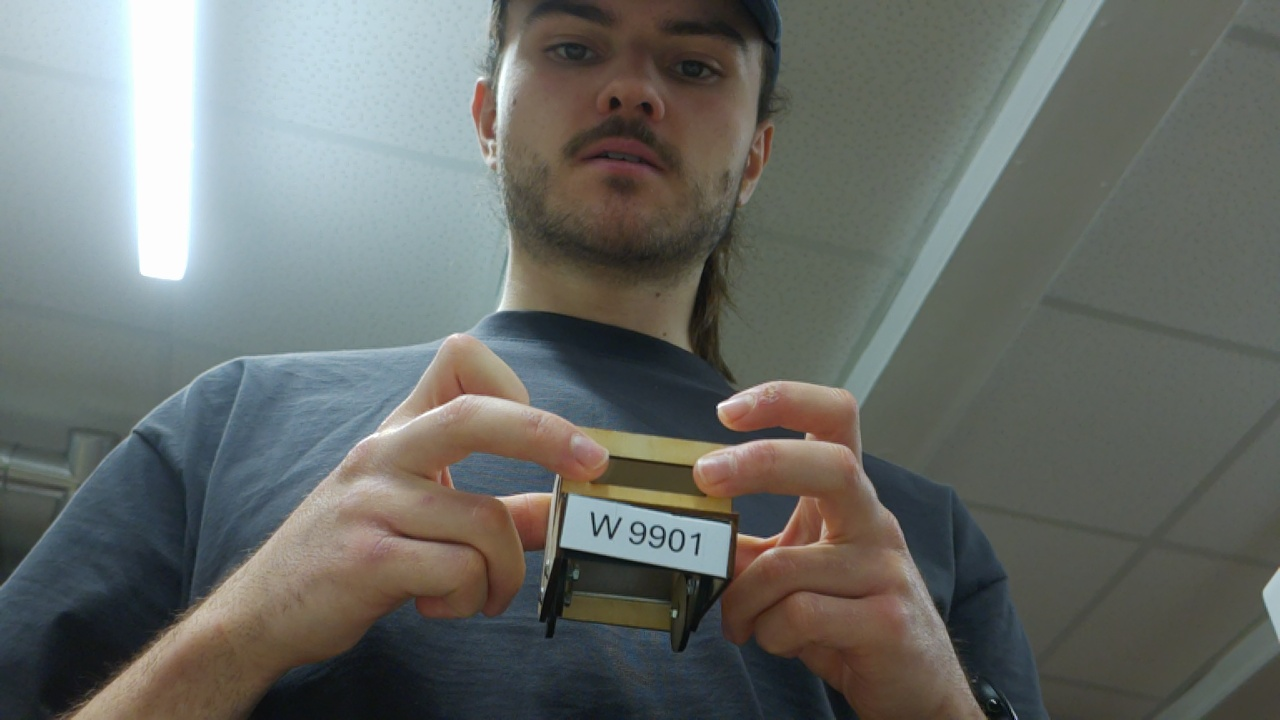license_plate: (553, 484, 742, 581)
